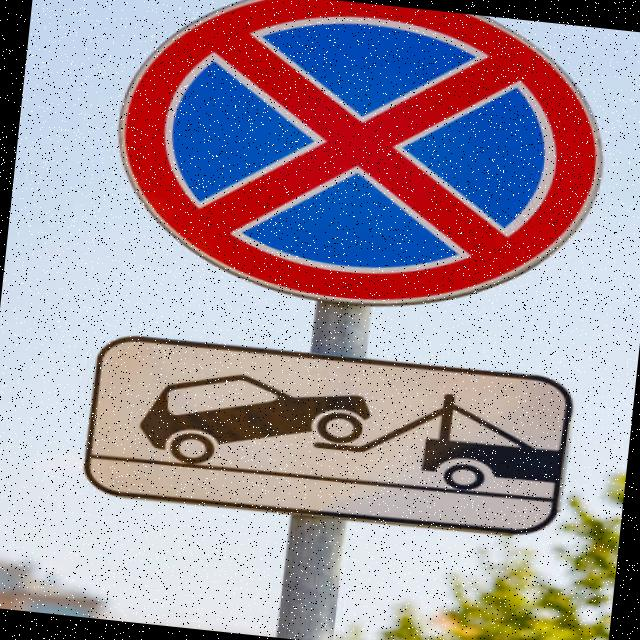no_parking: (94, 0, 625, 337)
